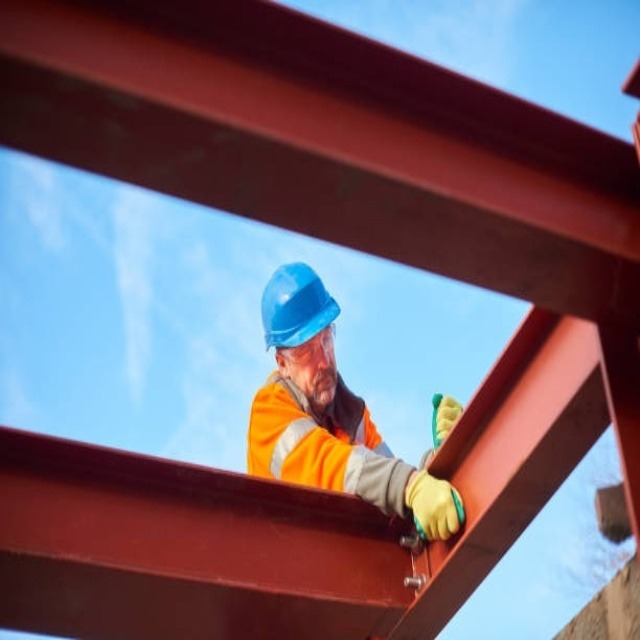Gafas: (280, 326, 337, 366)
Guantes: (405, 468, 465, 541), (431, 394, 464, 451)
Sin_mascara: (310, 364, 337, 402)
